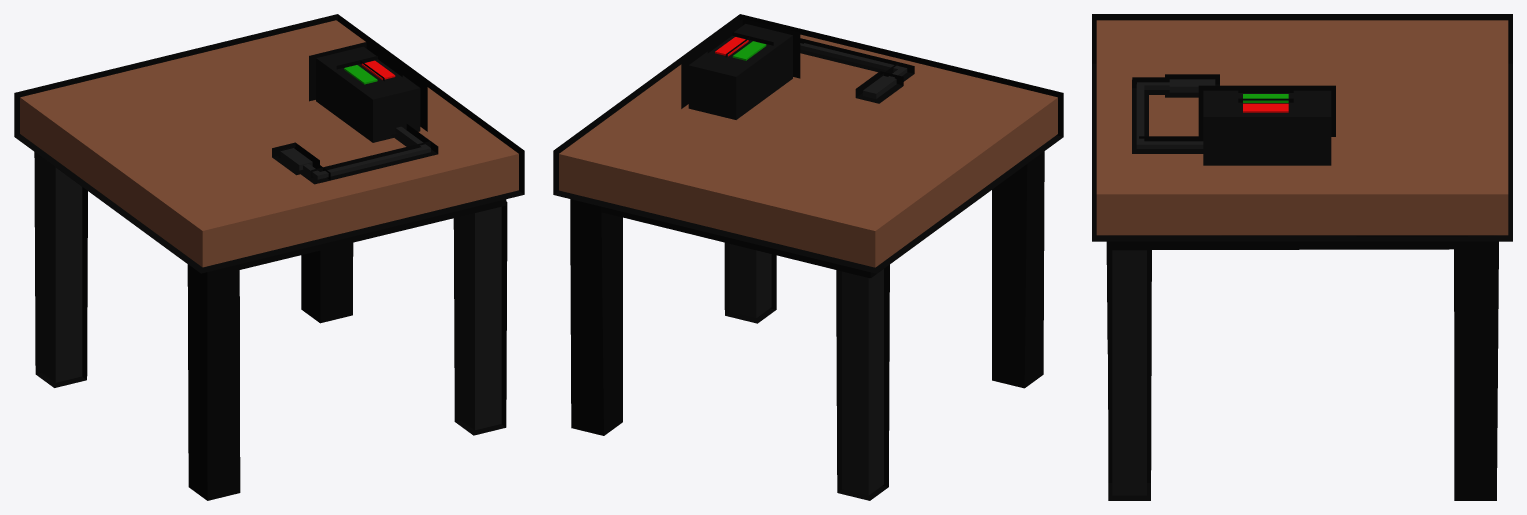
File: ChargingStation.FBX
The picture shows the model from 3 angles, left to right: view 1: azimuth 30°, elevation 25°; view 2: azimuth 150°, elevation 25°; view 3: azimuth 270°, elevation 25°; orthographic projection. The views are drawn at different scales.
Visible parts, largest first — view 1: Top, LegsOutline, Legs, Charger, TopOutline, ChargerOutline; view 2: Top, LegsOutline, Legs, Charger, TopOutline, ChargerOutline; view 3: Top, LegsOutline, Charger, Legs, TopOutline, ChargerOutline.
Part boxes in pixels (box(x1,y1,x2,y2)): Top: box(20, 20, 518, 267); LegsOutline: box(34, 152, 507, 500); Legs: box(40, 156, 501, 430); Charger: box(280, 46, 430, 179); TopOutline: box(14, 14, 524, 273); ChargerOutline: box(272, 42, 438, 184); Top: box(559, 34, 1057, 267); LegsOutline: box(570, 151, 1044, 500); Legs: box(729, 244, 883, 495); Charger: box(688, 23, 907, 119); TopOutline: box(553, 14, 1063, 273); ChargerOutline: box(681, 19, 914, 108); Top: box(1096, 20, 1508, 235); LegsOutline: box(1106, 235, 1498, 500); Charger: box(1136, 79, 1331, 165); Legs: box(1112, 250, 1146, 495); TopOutline: box(1092, 14, 1512, 241); ChargerOutline: box(1132, 74, 1335, 153).
Bounding box in the file's own units: 1.03 × 0.9872 × 1.03.
